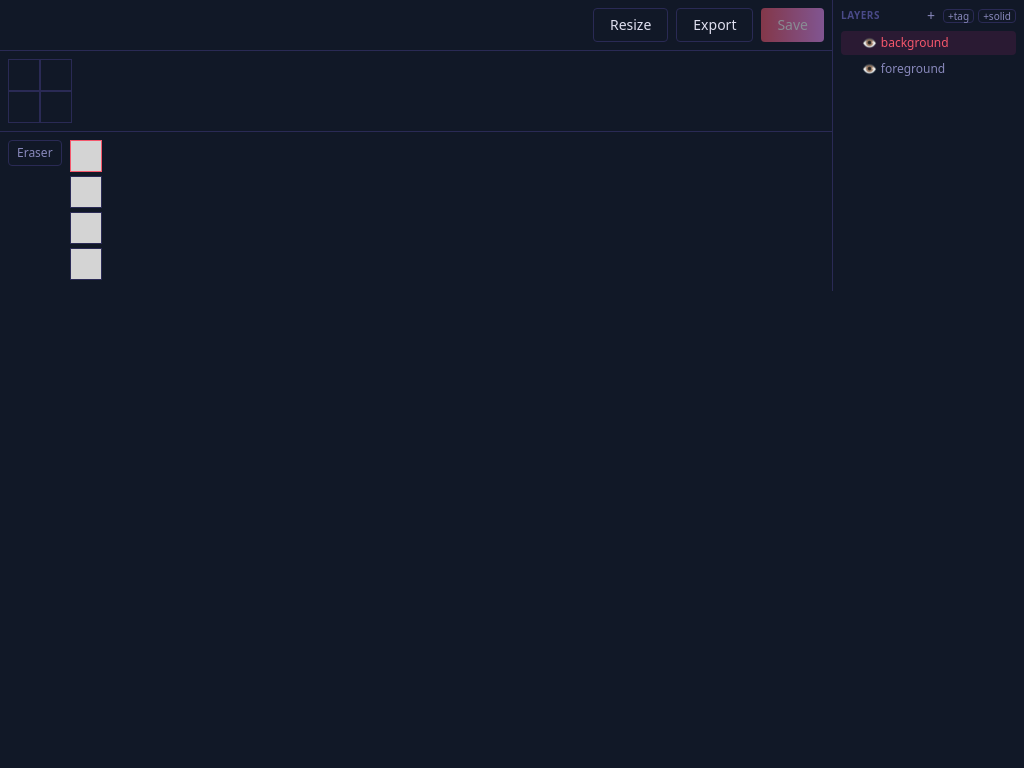
Scenario: TileMapEditor — resize › the Resize button opens a dialog prefilled with the current grid size
Expected: the text "background" is shown, top-left (881, 34), bottom-right (949, 51)
What coordinates should you click on to do the following:
click the button "Resize"
I would click on:
 (631, 25)
Its box is top-left (593, 8), bottom-right (668, 42).
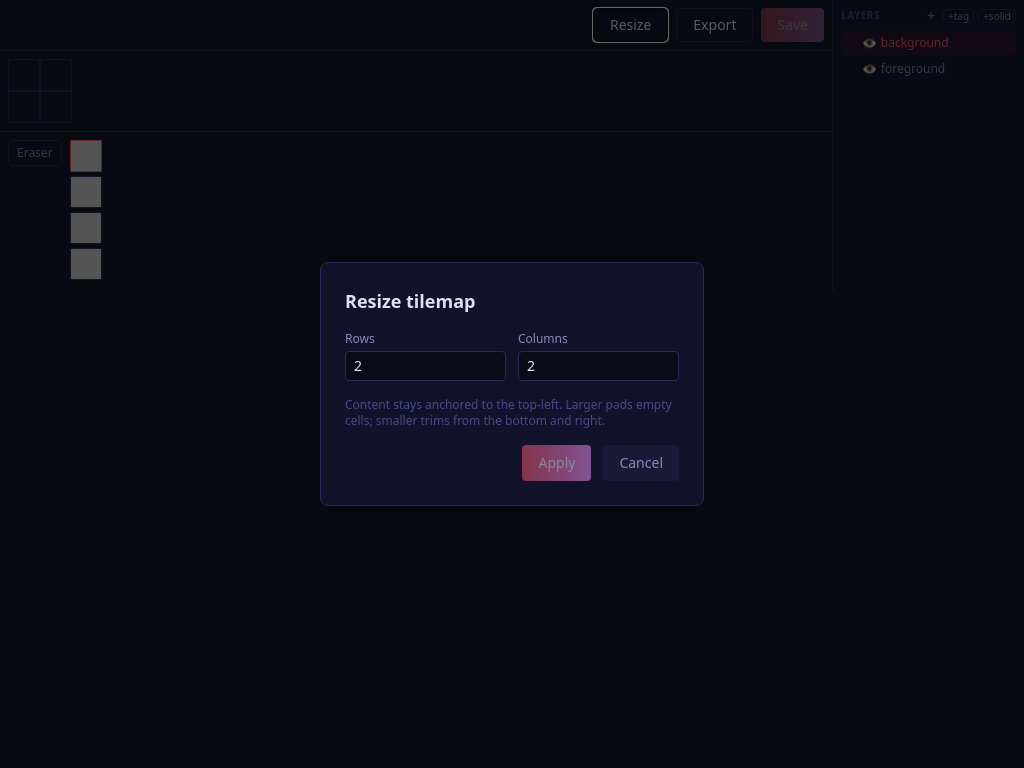
Expected: the dialog "Resize tilemap" is shown, top-left (320, 262), bottom-right (704, 506)
Expected: the number field labelled "Rows" holds "2", top-left (345, 351), bottom-right (506, 381)
Expected: the number field labelled "Columns" holds "2", top-left (518, 351), bottom-right (679, 381)
